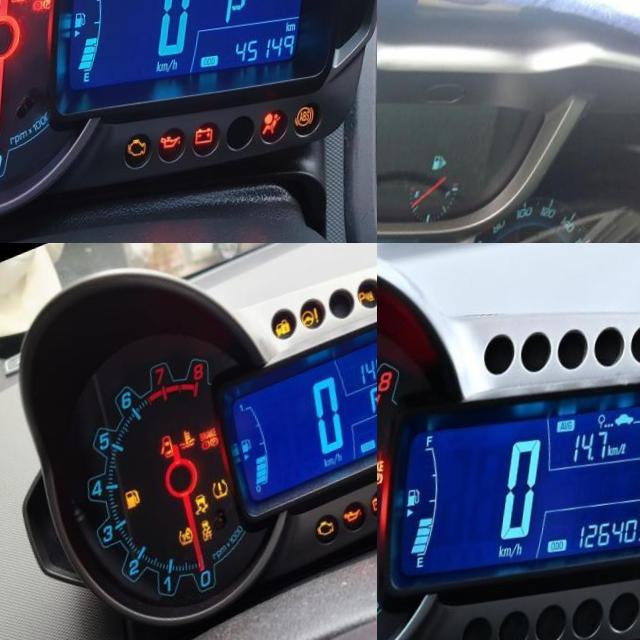Doors: (158, 437, 179, 467)
Engine cooling system: (177, 431, 200, 458), (12, 0, 32, 10)
Low fuel level: (127, 490, 146, 515)
